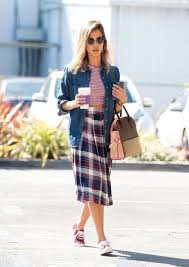C_skirt: (57, 104, 121, 217)
